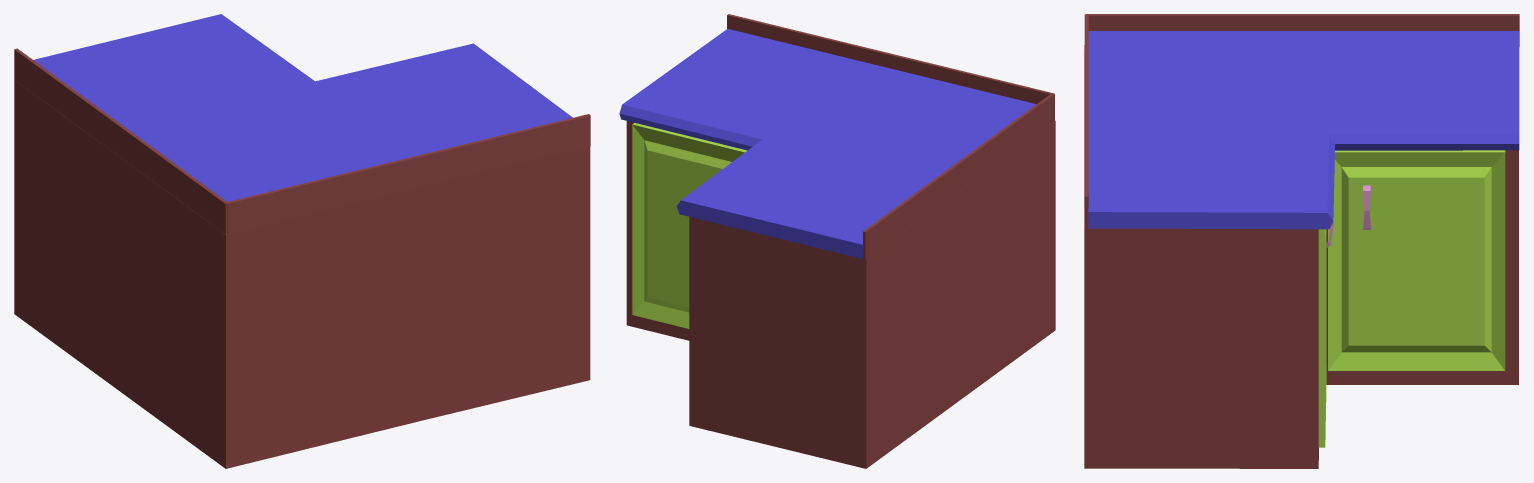
Rendered from kitchencounter4.fbx.
3 renders of one model, left to right at view 1: azimuth 30°, elevation 25°; view 2: azimuth 150°, elevation 25°; view 3: azimuth 270°, elevation 25°, orthographic. The views are drawn at different scales.
Parts seen in each view (by area): view 1: counter, top, margin; view 2: counter, top, doors, margin; view 3: top, counter, doors, margin.
Boxes of the visible parts, x1,y1,x2,y2 form: counter: (14, 80, 590, 468); top: (33, 14, 572, 201); margin: (14, 48, 590, 234); counter: (626, 120, 1055, 468); top: (619, 29, 1036, 258); doors: (632, 123, 747, 328); margin: (727, 14, 1054, 259); top: (1088, 31, 1519, 229); counter: (1084, 45, 1518, 468); doors: (1318, 150, 1505, 447); margin: (1084, 14, 1519, 228).
Size of the model in its own units: 327 by 226 by 328.
